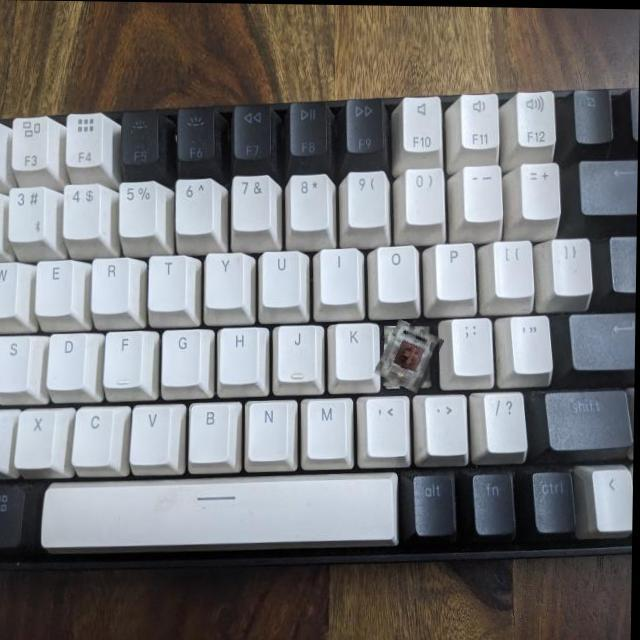key-switch: (380, 321, 441, 390)
